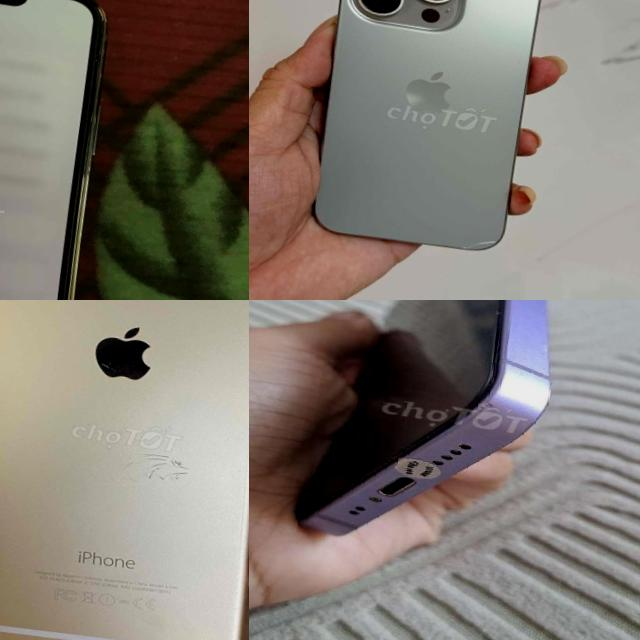gen_11: (0, 0, 143, 300)
gen_12_13: (294, 300, 588, 576)
gen_15: (273, 0, 571, 284)
gen_6: (0, 300, 249, 640)
